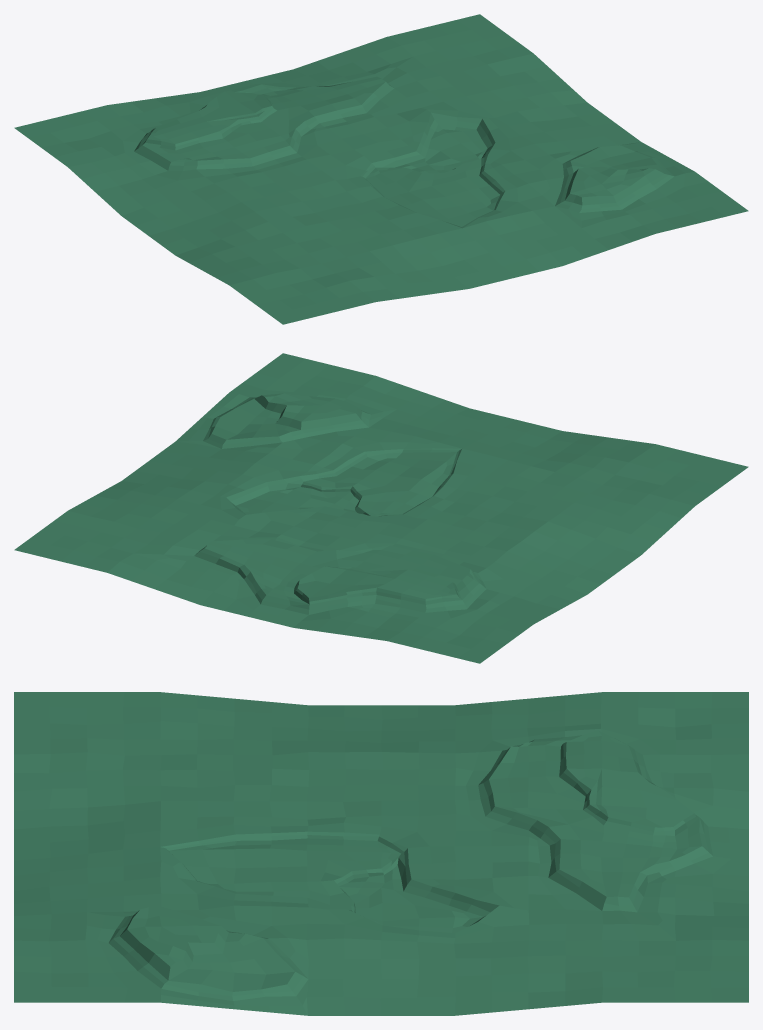
The model's file is Terrain_a_lush.FBX.
The picture shows the model from 3 angles, top to bottom: view 1: azimuth 30°, elevation 25°; view 2: azimuth 150°, elevation 25°; view 3: azimuth 270°, elevation 25°; orthographic projection. The views are drawn at different scales.
Parts seen in each view (by area): view 1: Terrain_a_lush; view 2: Terrain_a_lush; view 3: Terrain_a_lush.
Part boxes in pixels (left/top/right/bottom): Terrain_a_lush: left=14, top=14, right=748, bottom=324; Terrain_a_lush: left=14, top=353, right=748, bottom=663; Terrain_a_lush: left=14, top=692, right=748, bottom=1015.
Bounding box in the file's own units: 100 × 4.39 × 100.
